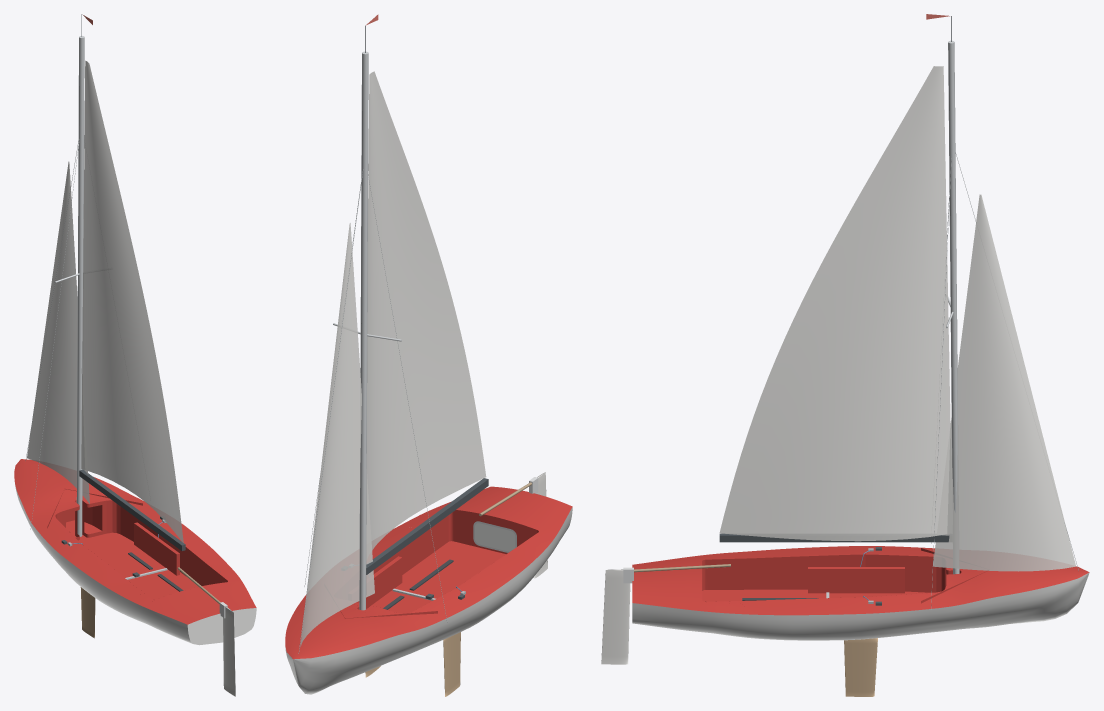
Rendered from ixylon.glb.
3 views of the same model, side by side, from view 1: azimuth 30°, elevation 25°; view 2: azimuth 150°, elevation 25°; view 3: azimuth 270°, elevation 25° (orthographic). The views are drawn at different scales.
Visible parts, largest first — view 1: Großsegel 8,8 m², Rumpf, Fock 3,7 m² (Rollfock), Cockpit (Plicht 2,40 × 1,10 m, 0,45 m tief), Mast (Leichtmetall, eloxiert), Schwertkasten Stb., Senkruder, Bugstauraum unter dem Vordeck (offen zum Cockpit), Kimmschwert Bb. (Holz); view 2: Großsegel 8,8 m², Rumpf, Fock 3,7 m² (Rollfock), Cockpit (Plicht 2,40 × 1,10 m, 0,45 m tief), Mast (Leichtmetall, eloxiert), Kimmschwert Bb. (Holz), Schwertkasten Stb., Lukendeckel Achterpiek (Cockpitwand), Vorstag; view 3: Großsegel 8,8 m², Fock 3,7 m² (Rollfock), Rumpf, Cockpit (Plicht 2,40 × 1,10 m, 0,45 m tief), Mast (Leichtmetall, eloxiert), Schwertkasten Bb., Senkruder, Kimmschwert Stb. (Holz).
Part boxes in pixels (left/top/right/bottom): Großsegel 8,8 m²: left=79, top=60, right=185, bottom=550; Rumpf: left=14, top=459, right=256, bottom=645; Fock 3,7 m² (Rollfock): left=27, top=161, right=89, bottom=503; Cockpit (Plicht 2,40 × 1,10 m, 0,45 m tief): left=55, top=500, right=227, bottom=599; Mast (Leichtmetall, eloxiert): left=76, top=36, right=84, bottom=536; Schwertkasten Stb.: left=134, top=522, right=179, bottom=575; Senkruder: left=223, top=607, right=235, bottom=696; Bugstauraum unter dem Vordeck (offen zum Cockpit): left=66, top=505, right=102, bottom=537; Kimmschwert Bb. (Holz): left=80, top=587, right=95, bottom=638; Großsegel 8,8 m²: left=366, top=71, right=488, bottom=574; Rumpf: left=285, top=486, right=572, bottom=694; Fock 3,7 m² (Rollfock): left=300, top=223, right=374, bottom=646; Cockpit (Plicht 2,40 × 1,10 m, 0,45 m tief): left=357, top=510, right=538, bottom=613; Mast (Leichtmetall, eloxiert): left=359, top=51, right=368, bottom=610; Kimmschwert Bb. (Holz): left=443, top=632, right=460, bottom=696; Schwertkasten Stb.: left=357, top=556, right=402, bottom=608; Lukendeckel Achterpiek (Cockpitwand): left=475, top=523, right=515, bottom=551; Vorstag: left=298, top=169, right=363, bottom=653; Großsegel 8,8 m²: left=719, top=66, right=950, bottom=542; Fock 3,7 m² (Rollfock): left=932, top=194, right=1075, bottom=571; Rumpf: left=632, top=546, right=1089, bottom=640; Cockpit (Plicht 2,40 × 1,10 m, 0,45 m tief): left=702, top=554, right=961, bottom=601; Mast (Leichtmetall, eloxiert): left=948, top=40, right=959, bottom=574; Schwertkasten Bb.: left=808, top=567, right=904, bottom=593; Senkruder: left=601, top=569, right=630, bottom=664; Kimmschwert Stb. (Holz): left=844, top=638, right=877, bottom=696.
Size of the model in its own units: 1.8 by 8.17 by 5.45.
